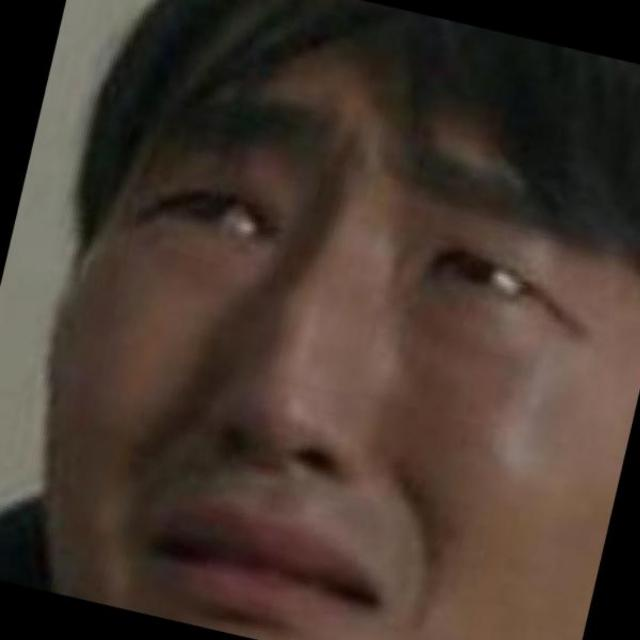Sad: (82, 93, 640, 633)
